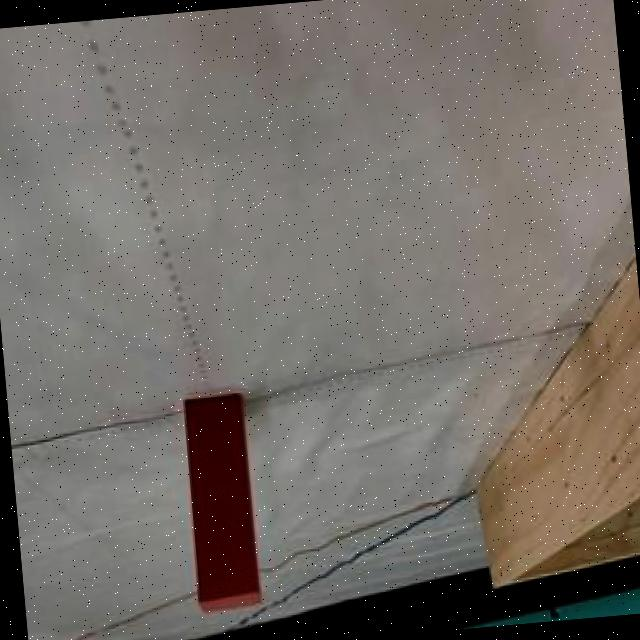redbox: (176, 389, 264, 616)
